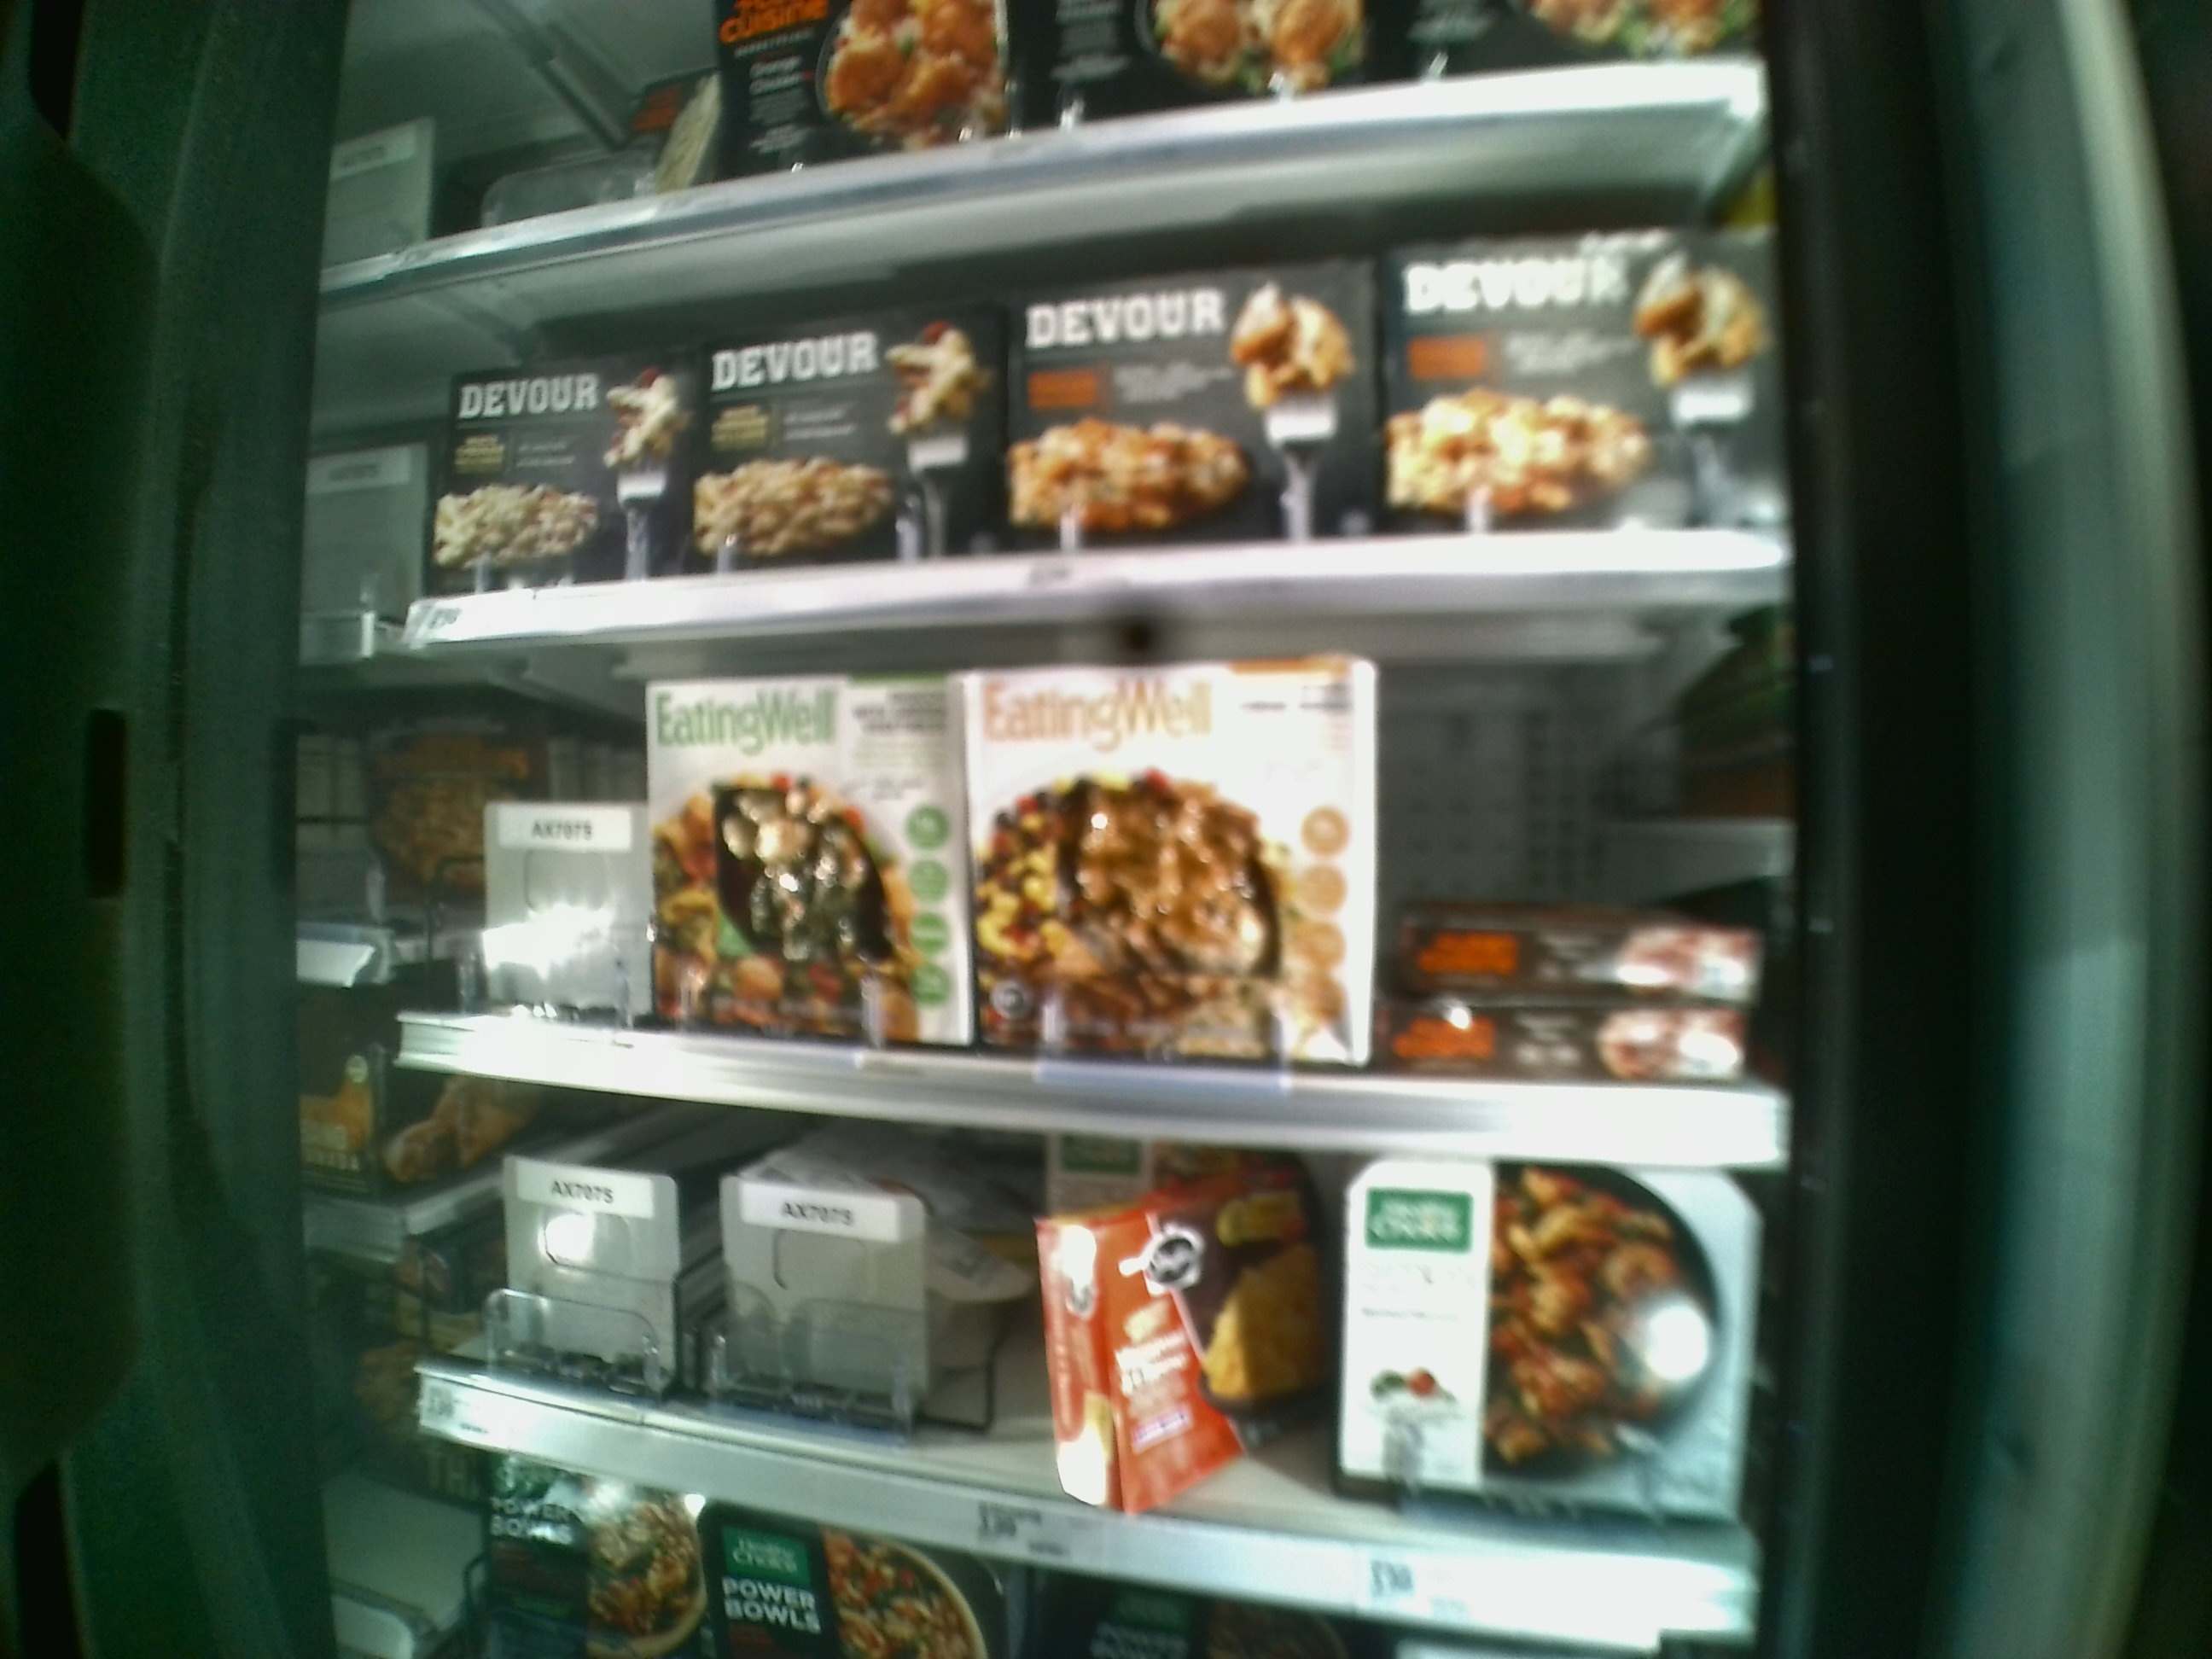shelf: (399, 596, 1801, 1166)
